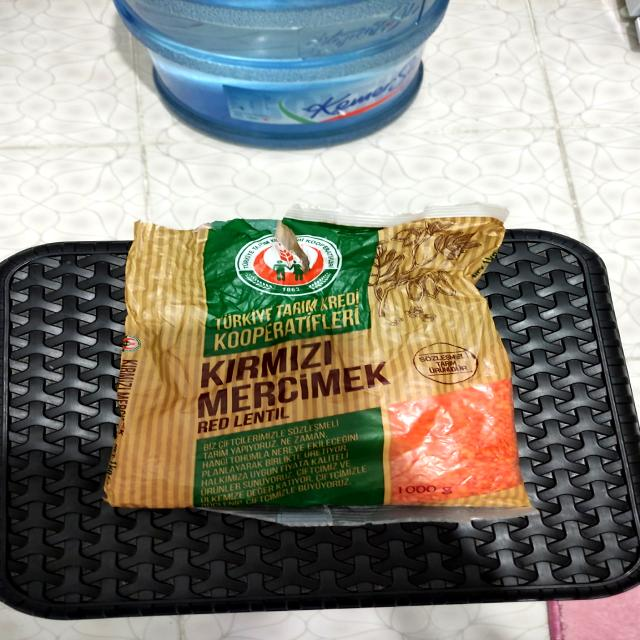red lentils: (124, 216, 522, 520)
